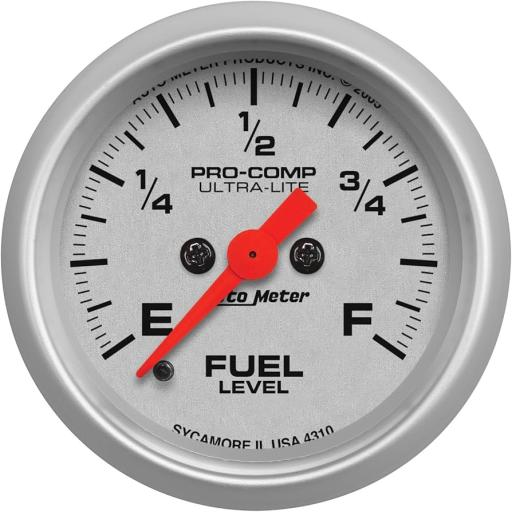empty: (137, 298, 175, 336)
full: (340, 298, 376, 342)
guage_area: (4, 3, 511, 511)
needle_center: (222, 222, 286, 284)
needle_tip: (130, 354, 160, 385)
